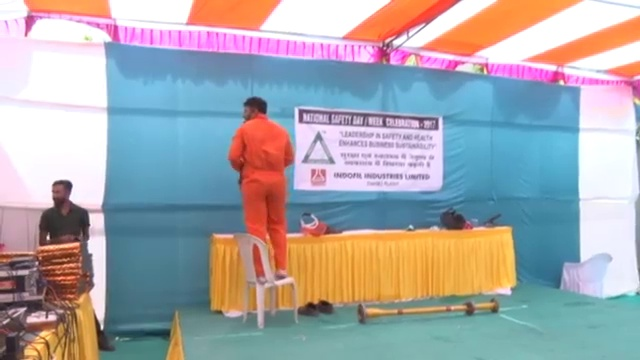helmet_off: (242, 95, 268, 125), (50, 177, 72, 207)
person: (227, 95, 299, 281), (37, 178, 97, 248)
